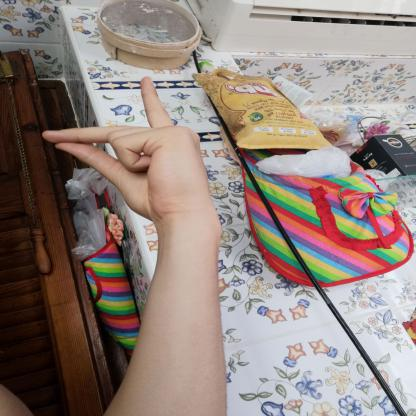TAA: (27, 67, 224, 228)
